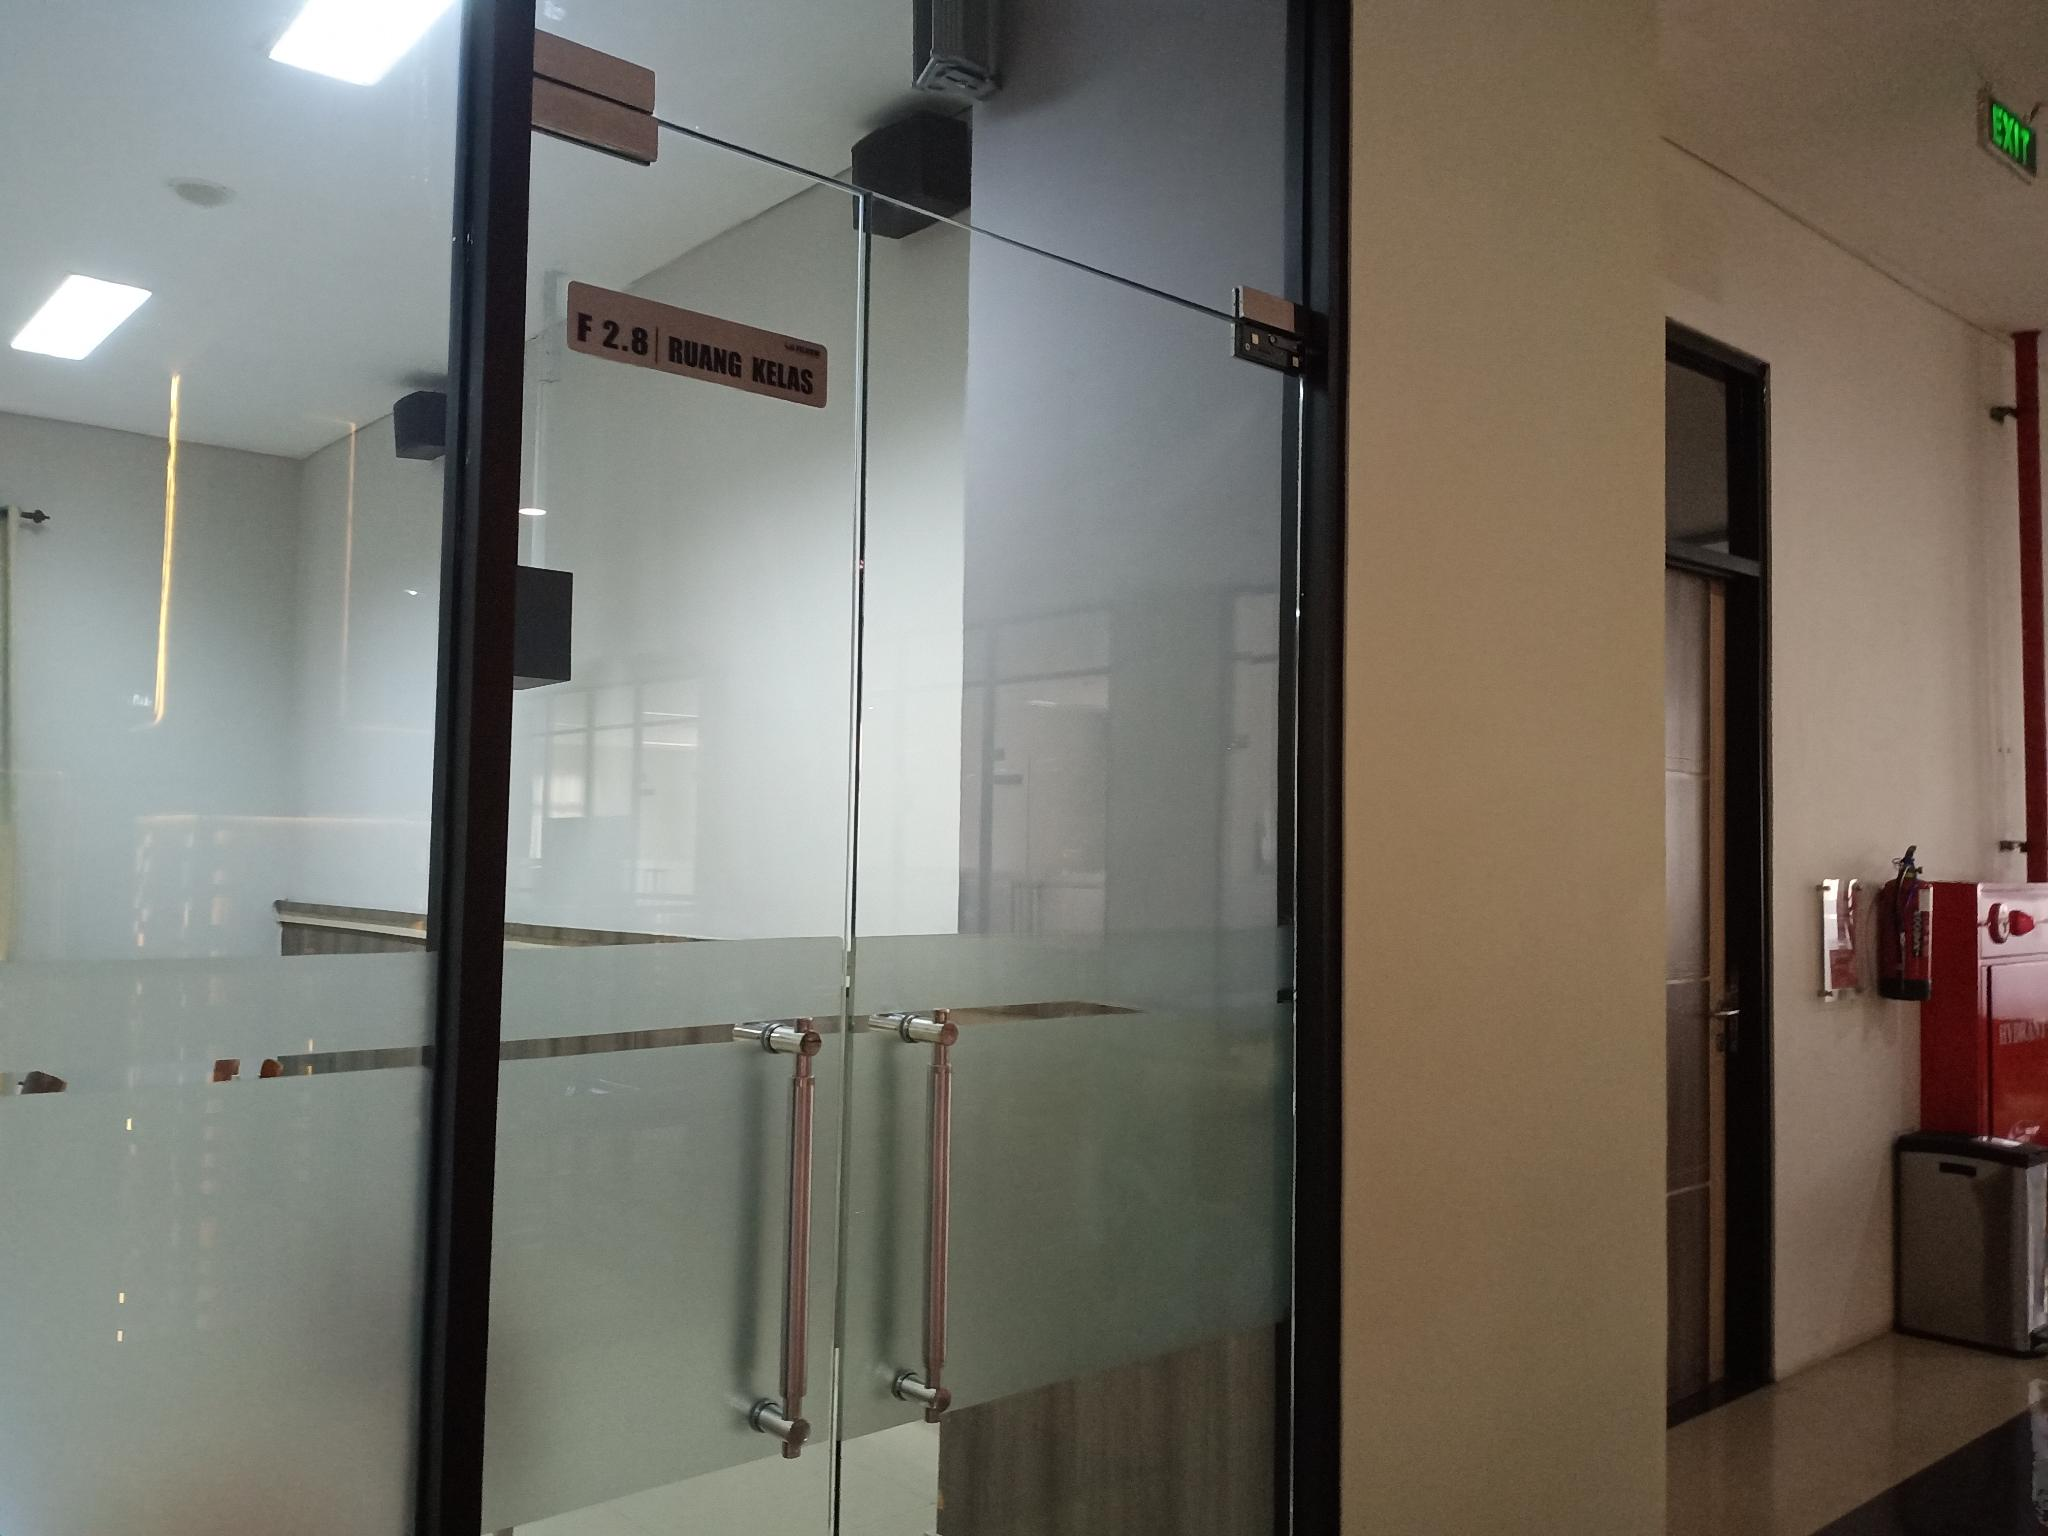plate: (566, 278, 827, 410)
